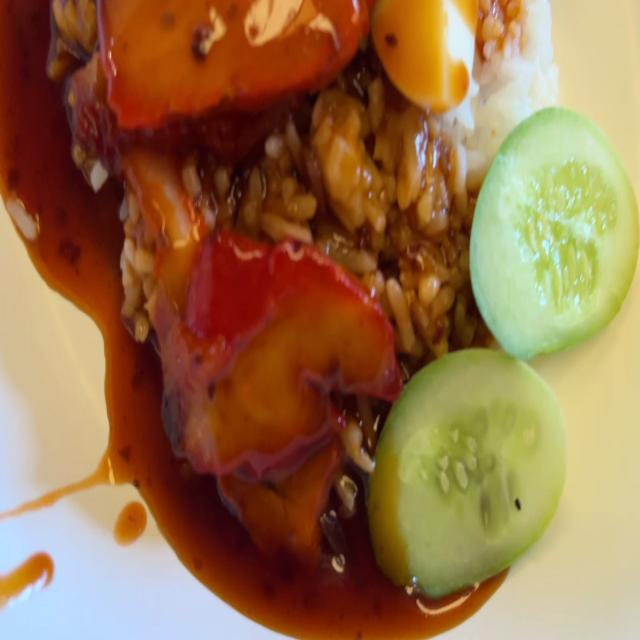boiled_egg: (372, 0, 483, 117)
cucumber: (362, 351, 573, 597), (466, 104, 636, 354)
red_pork: (142, 221, 392, 539), (71, 0, 373, 132)
red_pork_and_crispy_pork: (46, 0, 640, 594)
